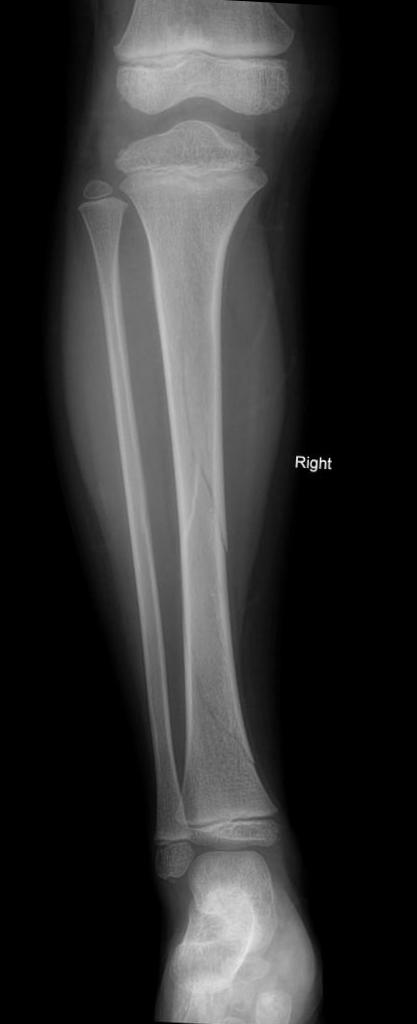line: (166, 347, 236, 553), (187, 682, 258, 766)
